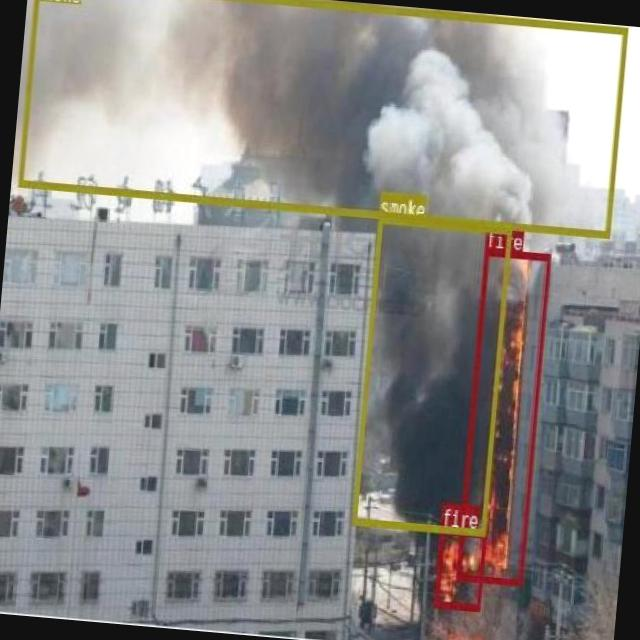fire: (454, 246, 549, 584), (432, 524, 486, 610)
smoke: (16, 0, 626, 236), (351, 214, 511, 535)
